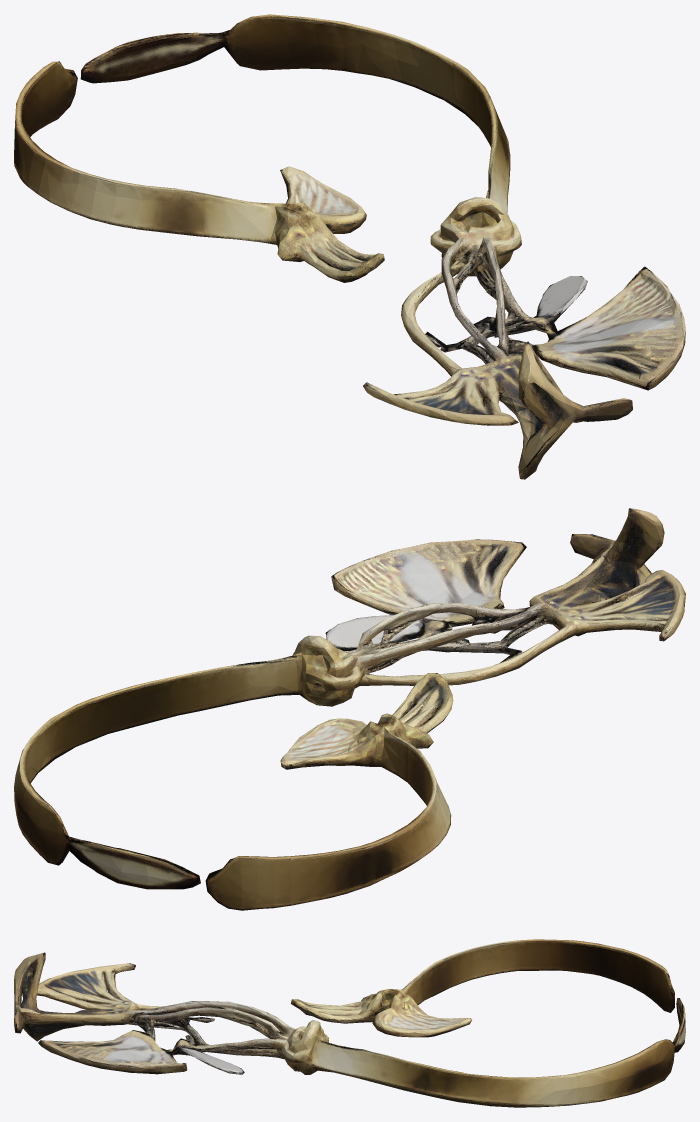
Rendered from zhra.glb.
3 renders of one model, top to bottom at view 1: azimuth 30°, elevation 25°; view 2: azimuth 150°, elevation 25°; view 3: azimuth 270°, elevation 25°, orthographic. The views are drawn at different scales.
Visible parts, largest first — view 1: world; view 2: world; view 3: world.
Part boxes in pixels (bbox=[...]): world: bbox=[14, 14, 685, 479]; world: bbox=[14, 508, 685, 910]; world: bbox=[14, 939, 685, 1107].
Bounding box in the file's own units: 0.5123 × 0.1508 × 0.9994.
Materials: 1 (1 with a texture image).
